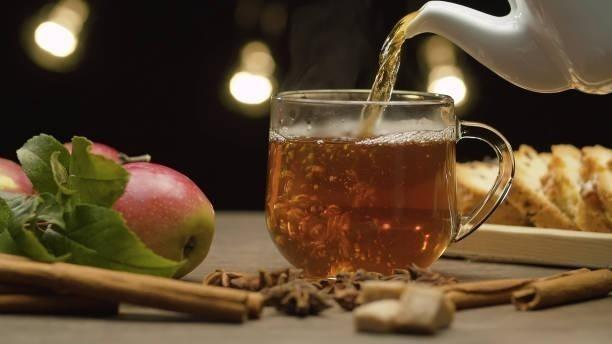glass-mug: (262, 85, 517, 292)
